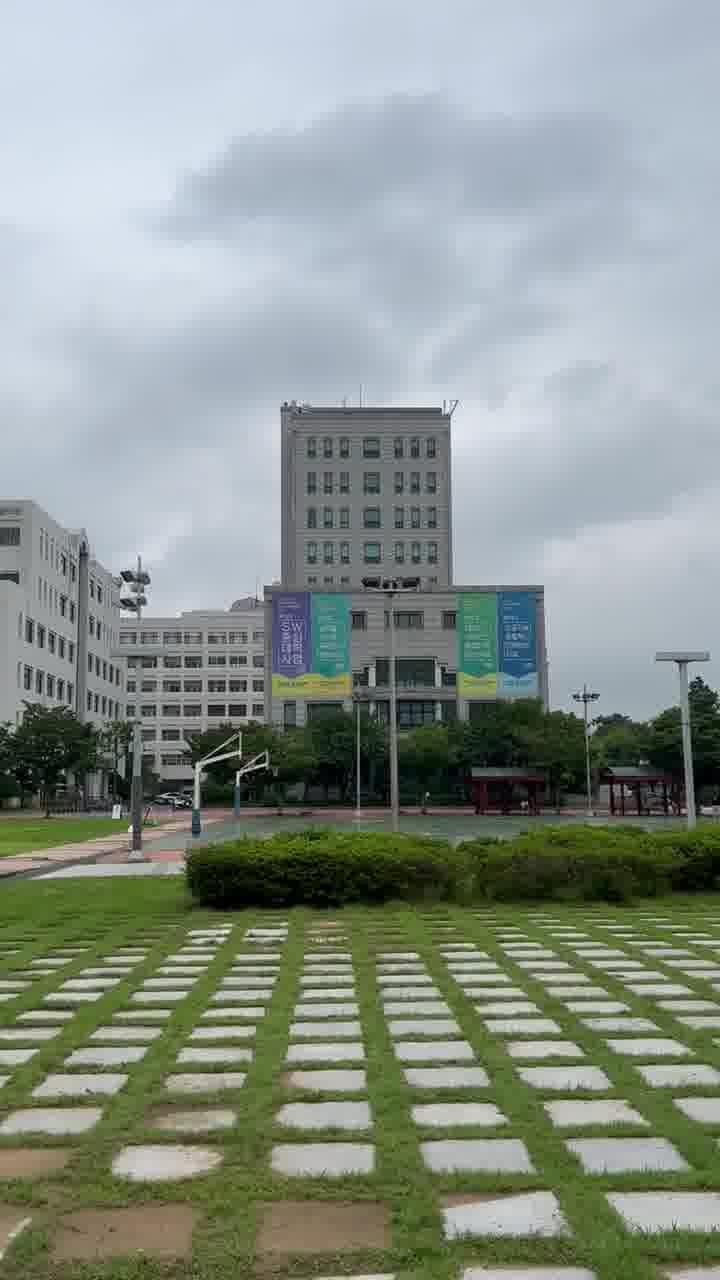building: (270, 402, 476, 594)
